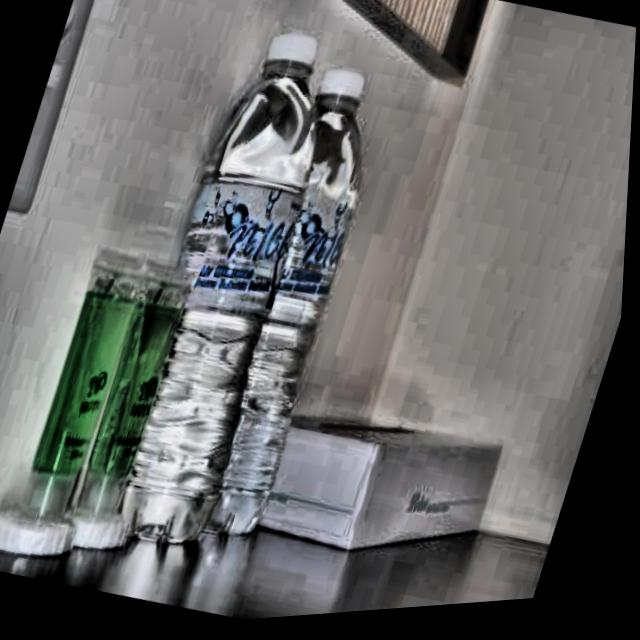Bottles: (91, 15, 367, 565), (166, 49, 411, 559)
